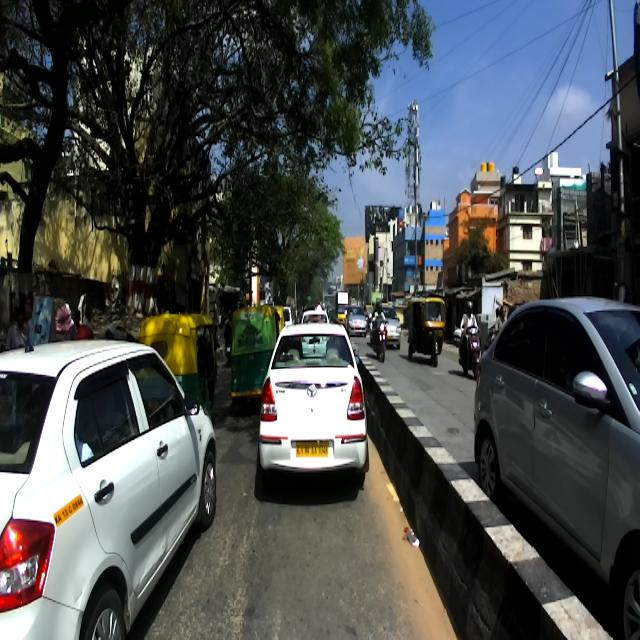car ahead at: (1, 333, 218, 640), (471, 295, 639, 640), (250, 313, 378, 497)
